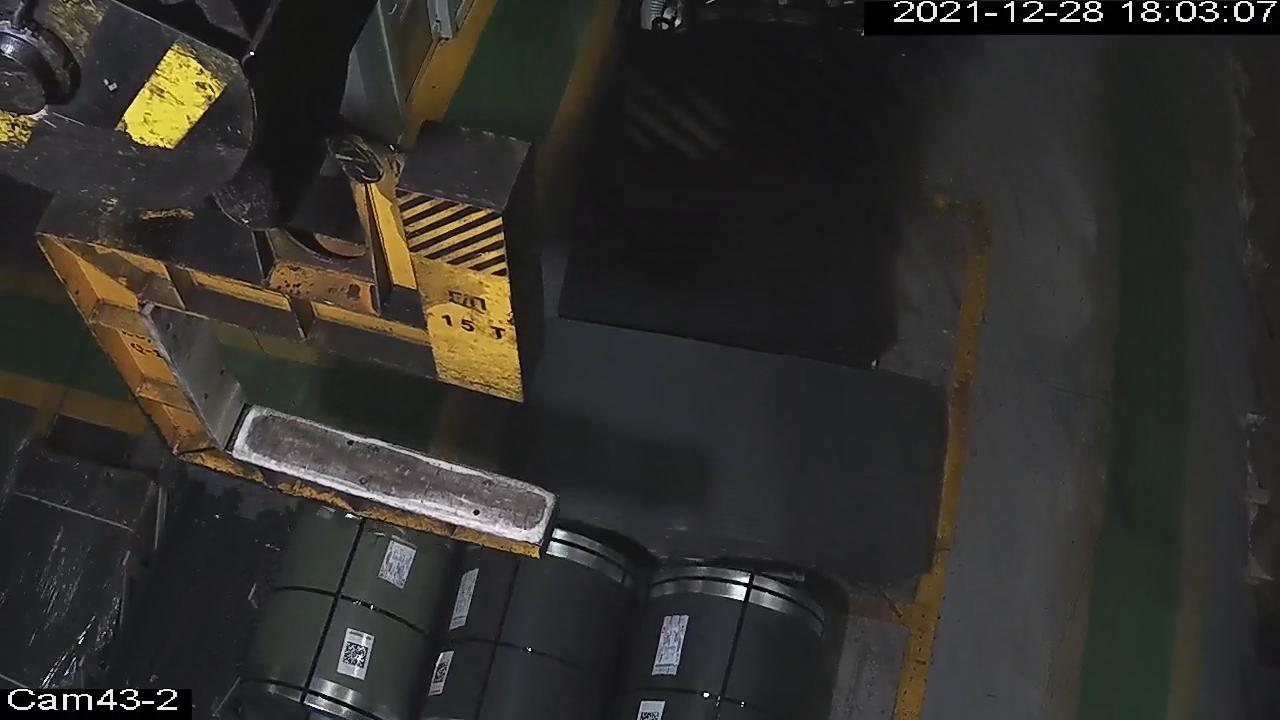data matrix: (342, 641, 371, 671), (431, 659, 452, 686)
